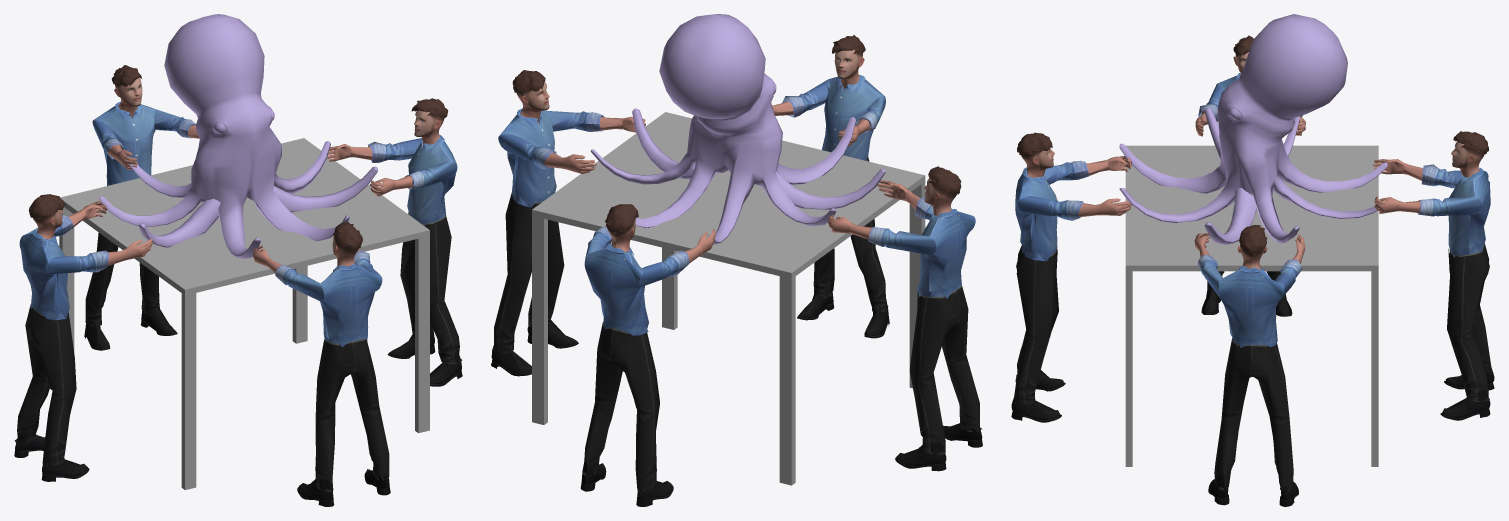
File: Octo.fbx
3 views of the same model, side by side, from view 1: azimuth 30°, elevation 25°; view 2: azimuth 150°, elevation 25°; view 3: azimuth 270°, elevation 25° (orthographic). The views are drawn at different scales.
Parts seen in each view (by area): view 1: Octo; view 2: Octo; view 3: Octo.
Boxes of the visible parts, x1=… form: Octo: x1=14, y1=14, x2=462, y2=506; Octo: x1=491, y1=14, x2=982, y2=506; Octo: x1=1011, y1=14, x2=1494, y2=506.
Bounding box in the file's own units: 307 × 263 × 299.
Materials: 9 (8 with a texture image).
